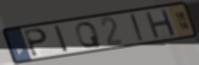2: (100, 16, 125, 48)
H: (143, 7, 178, 40)
I: (53, 24, 71, 54), (129, 12, 146, 42)
P: (23, 27, 49, 58)
Q: (74, 21, 103, 48)
